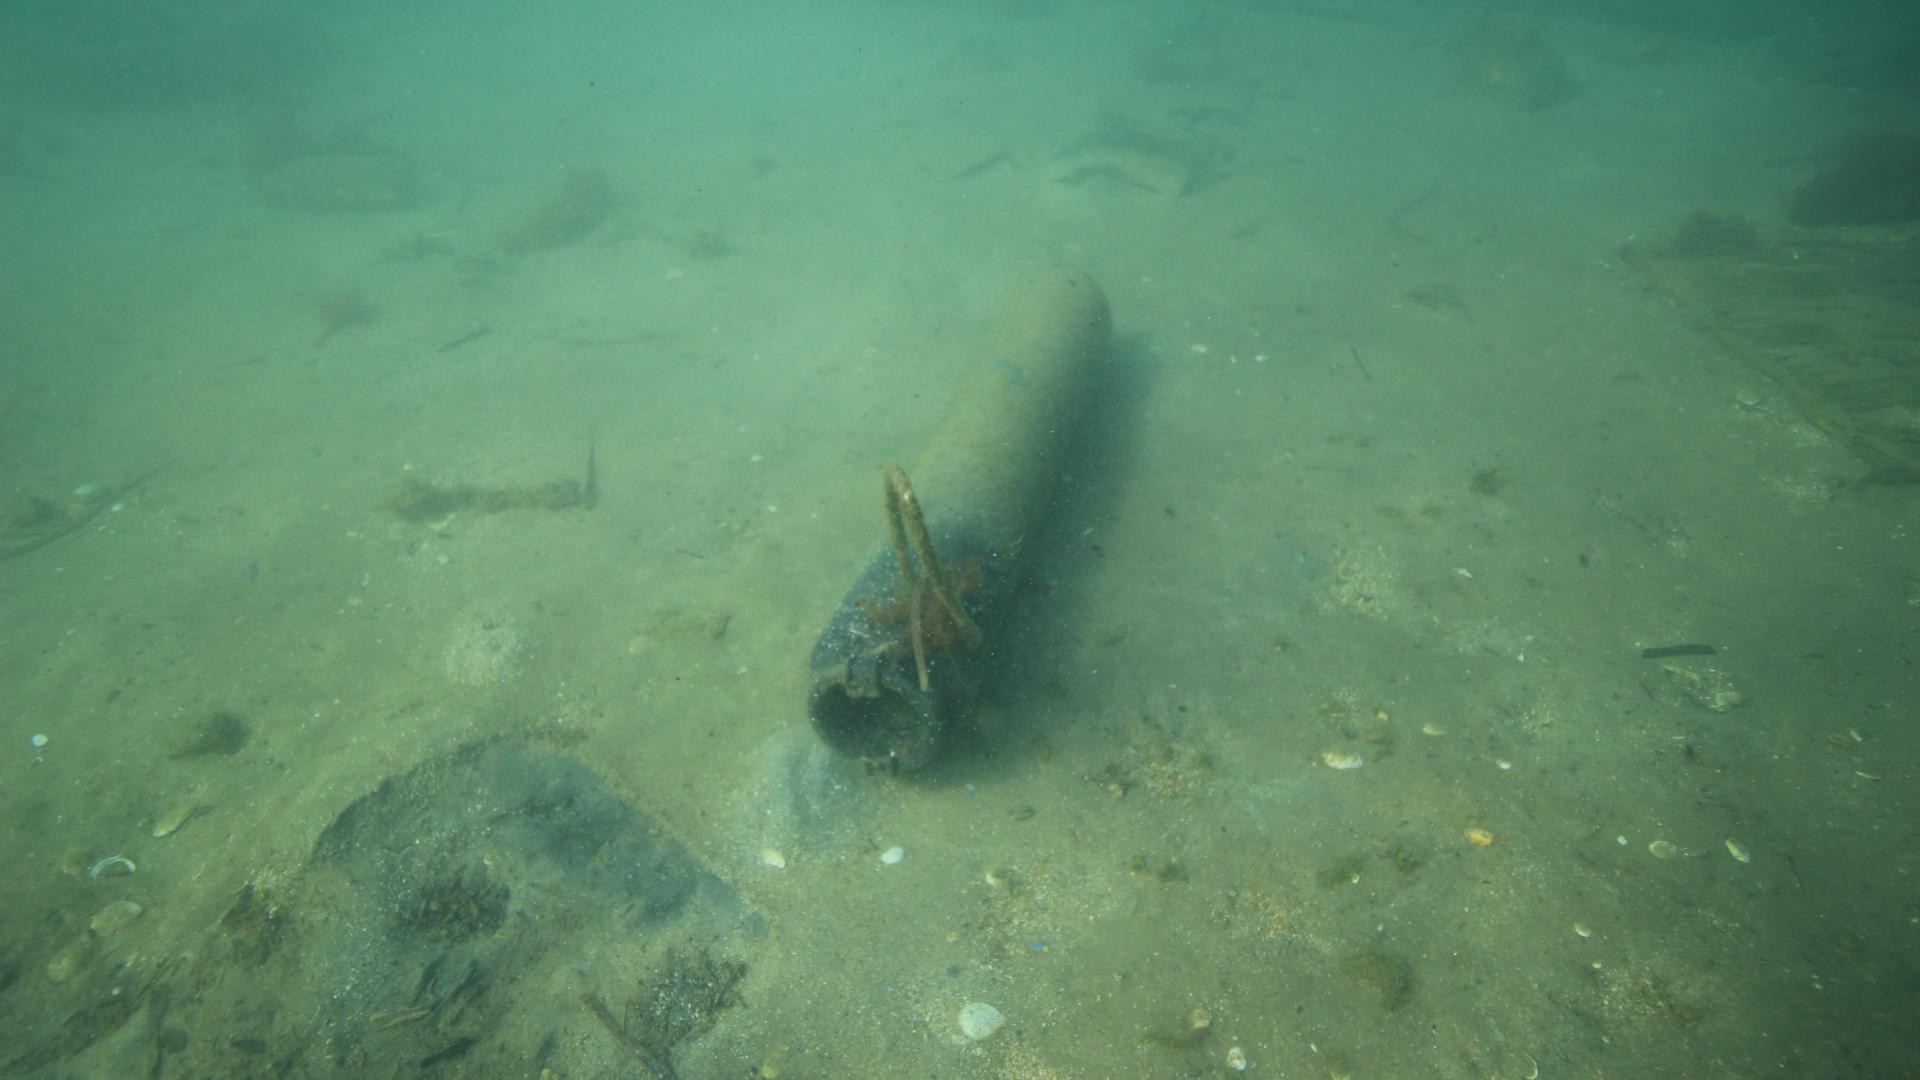eel fish trap: (799, 260, 1116, 775)
rope: (877, 459, 988, 653)
